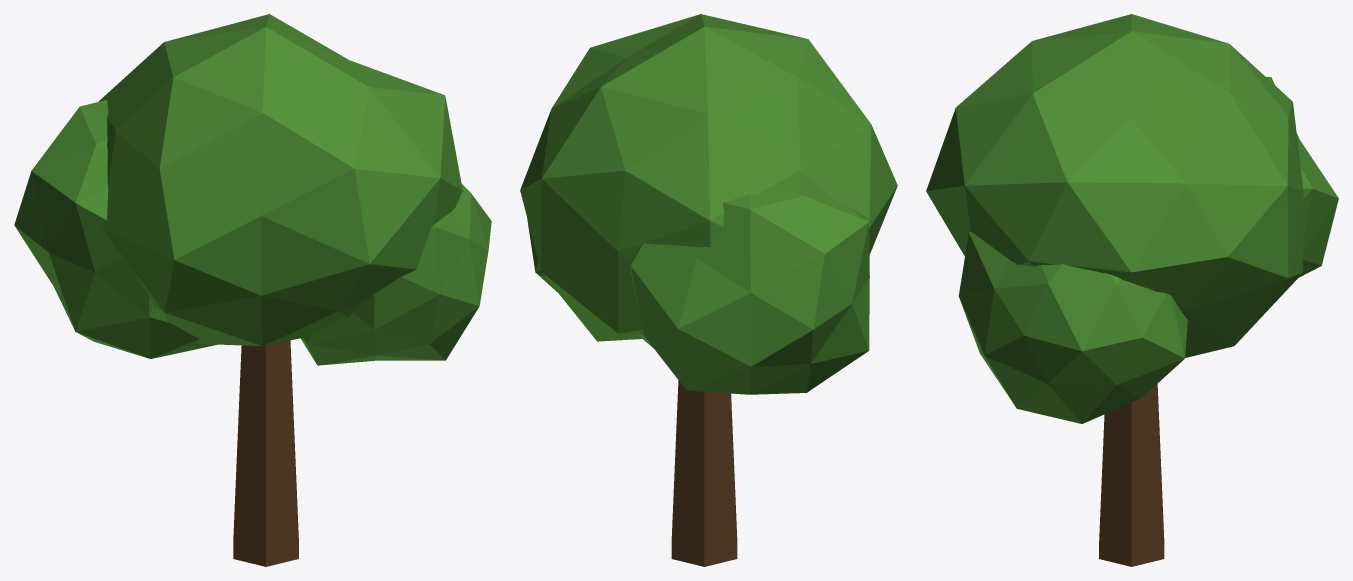
The model's file is tree_oak.obj.
3 views of the same model, side by side, from view 1: azimuth 30°, elevation 25°; view 2: azimuth 150°, elevation 25°; view 3: azimuth 270°, elevation 25° (orthographic).
Visible parts, largest first — view 1: tree_oak; view 2: tree_oak; view 3: tree_oak.
Boxes of the visible parts, left/top/right/bottom form: tree_oak: left=14, top=14, right=491, bottom=566; tree_oak: left=520, top=14, right=897, bottom=566; tree_oak: left=926, top=14, right=1338, bottom=566.
Size of the model in its own units: 4.42 by 5.78 by 4.16.
